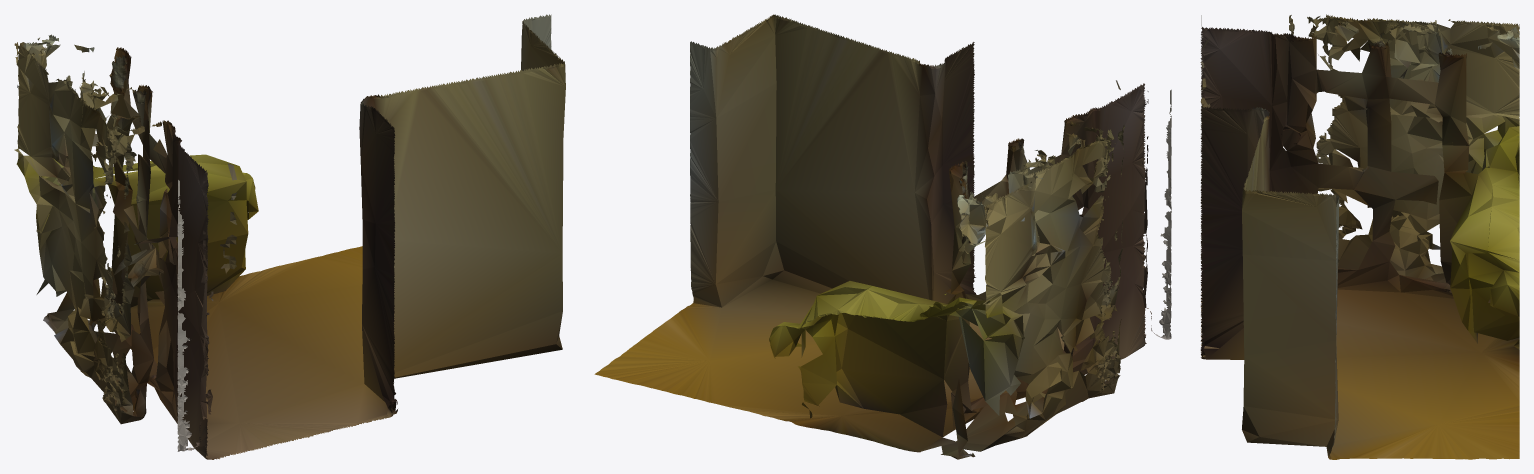
File: coarse.glb
3 views of the same model, side by side, from view 1: azimuth 30°, elevation 25°; view 2: azimuth 150°, elevation 25°; view 3: azimuth 270°, elevation 25° (orthographic). The views are drawn at different scales.
Size of the model in its own units: 2.05 by 1.29 by 1.44.
